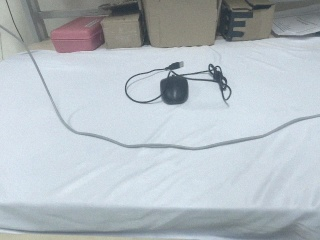box: (139, 1, 222, 52), (48, 11, 108, 56), (216, 1, 277, 43), (100, 1, 148, 51)
mouse: (159, 72, 190, 106)
